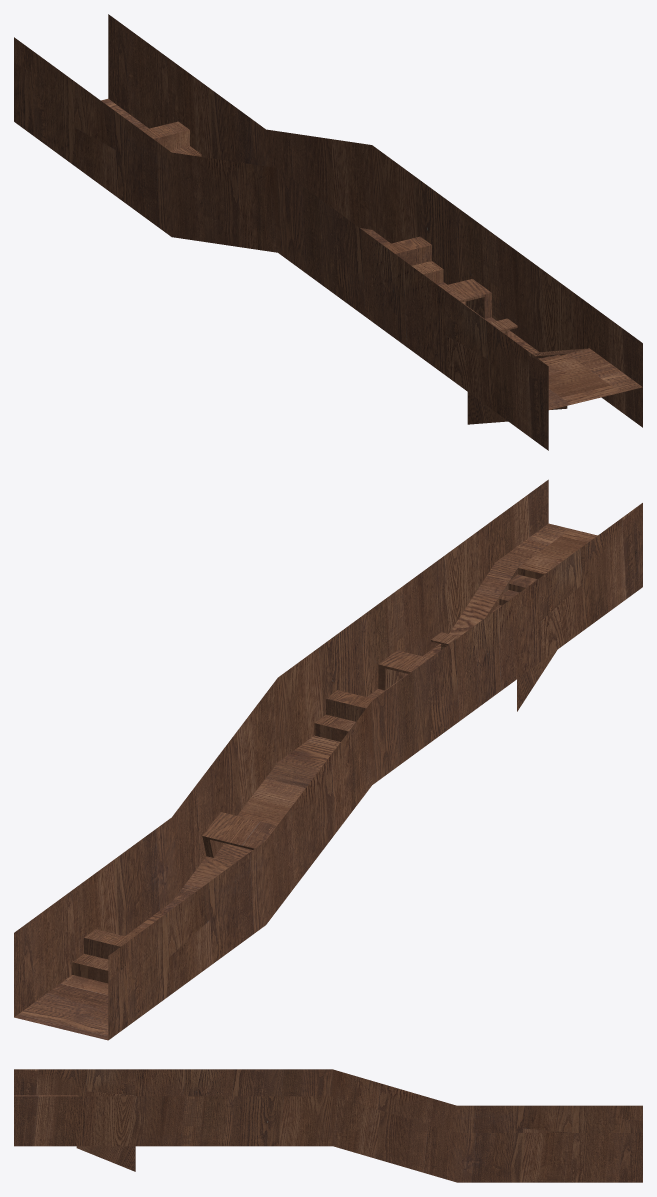
The model's file is level1_.glb.
3 views of the same model, one above another, from view 1: azimuth 30°, elevation 25°; view 2: azimuth 150°, elevation 25°; view 3: azimuth 270°, elevation 25° (orthographic). The views are drawn at different scales.
Parts seen in each view (by area): view 1: level, b, a, b2; view 2: level, a2, b, b2, a; view 3: level, b2.
Boxes of the visible parts, left/top/right/bottom form: level: left=14, top=14, right=642, bottom=450; b: left=314, top=236, right=443, bottom=304; a: left=379, top=279, right=491, bottom=339; b2: left=78, top=121, right=201, bottom=177; level: left=14, top=479, right=642, bottom=1040; a2: left=202, top=812, right=313, bottom=857; b: left=314, top=690, right=373, bottom=741; b2: left=72, top=929, right=177, bottom=991; a: left=378, top=650, right=429, bottom=690; level: left=14, top=1069, right=642, bottom=1182; b2: left=533, top=1167, right=573, bottom=1182.
Size of what is drawn, in the model's own units: 6.73 by 9.99 by 66.01.
Materials: 1 (1 with a texture image).
